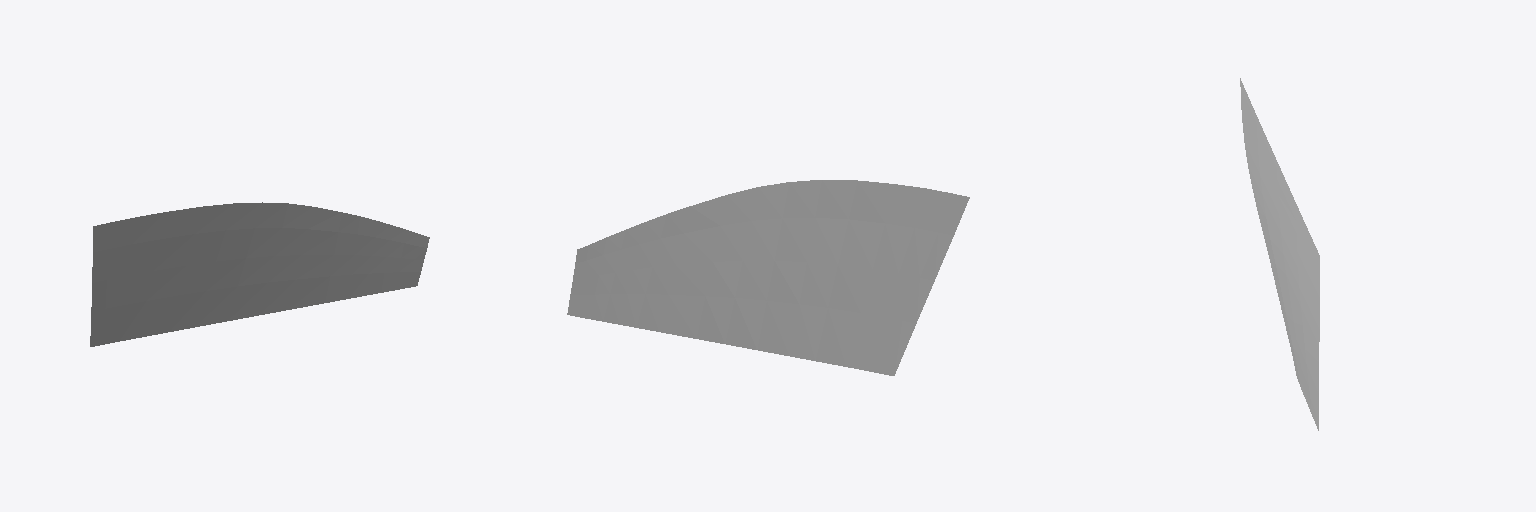
3 views of the same model, side by side, from view 1: azimuth 30°, elevation 25°; view 2: azimuth 150°, elevation 25°; view 3: azimuth 270°, elevation 25° (orthographic).
Visible parts, largest first — view 1: Z186_265B_L_DTaSI_Z186_265B_L; view 2: Z186_265B_L_DTaSI_Z186_265B_L; view 3: Z186_265B_L_DTaSI_Z186_265B_L.
Boxes of the visible parts, x1,y1,x2,y2 form: Z186_265B_L_DTaSI_Z186_265B_L: [90, 202, 429, 346]; Z186_265B_L_DTaSI_Z186_265B_L: [567, 180, 969, 375]; Z186_265B_L_DTaSI_Z186_265B_L: [1240, 78, 1319, 430].
Bounding box in the file's own units: 105 × 49.06 × 19.83.